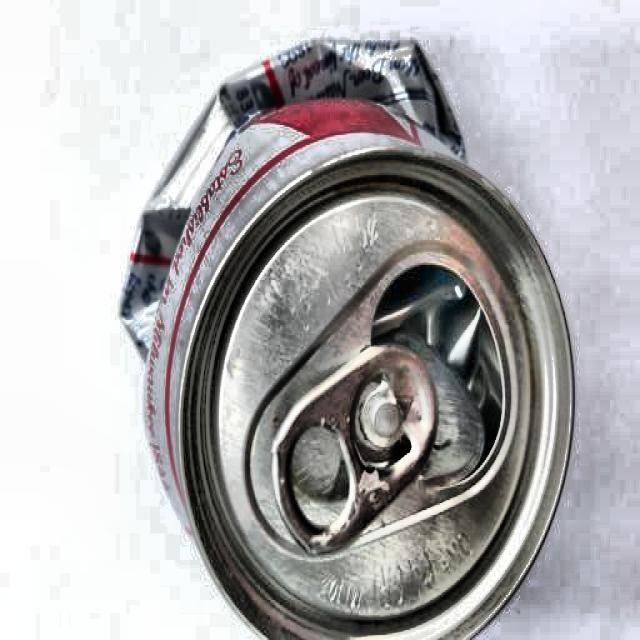metal: (122, 37, 575, 640)
